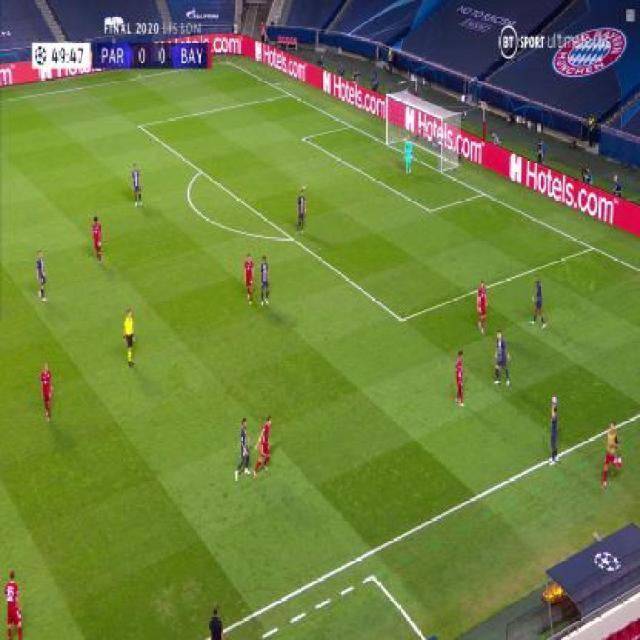ball: (552, 395, 558, 403)
player: (598, 420, 624, 486), (3, 569, 26, 640), (253, 415, 273, 477), (492, 330, 511, 387), (235, 417, 252, 479), (548, 392, 561, 469), (122, 308, 138, 367), (529, 275, 546, 329), (454, 348, 468, 407), (39, 363, 53, 422), (475, 279, 489, 335), (34, 249, 48, 302), (258, 254, 271, 308), (243, 252, 256, 306), (91, 215, 104, 266), (208, 603, 225, 639), (296, 186, 307, 237), (130, 164, 143, 207), (403, 134, 414, 174)
